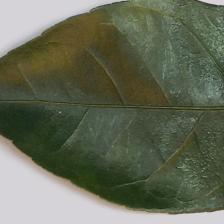healthy: (27, 25, 224, 156)
